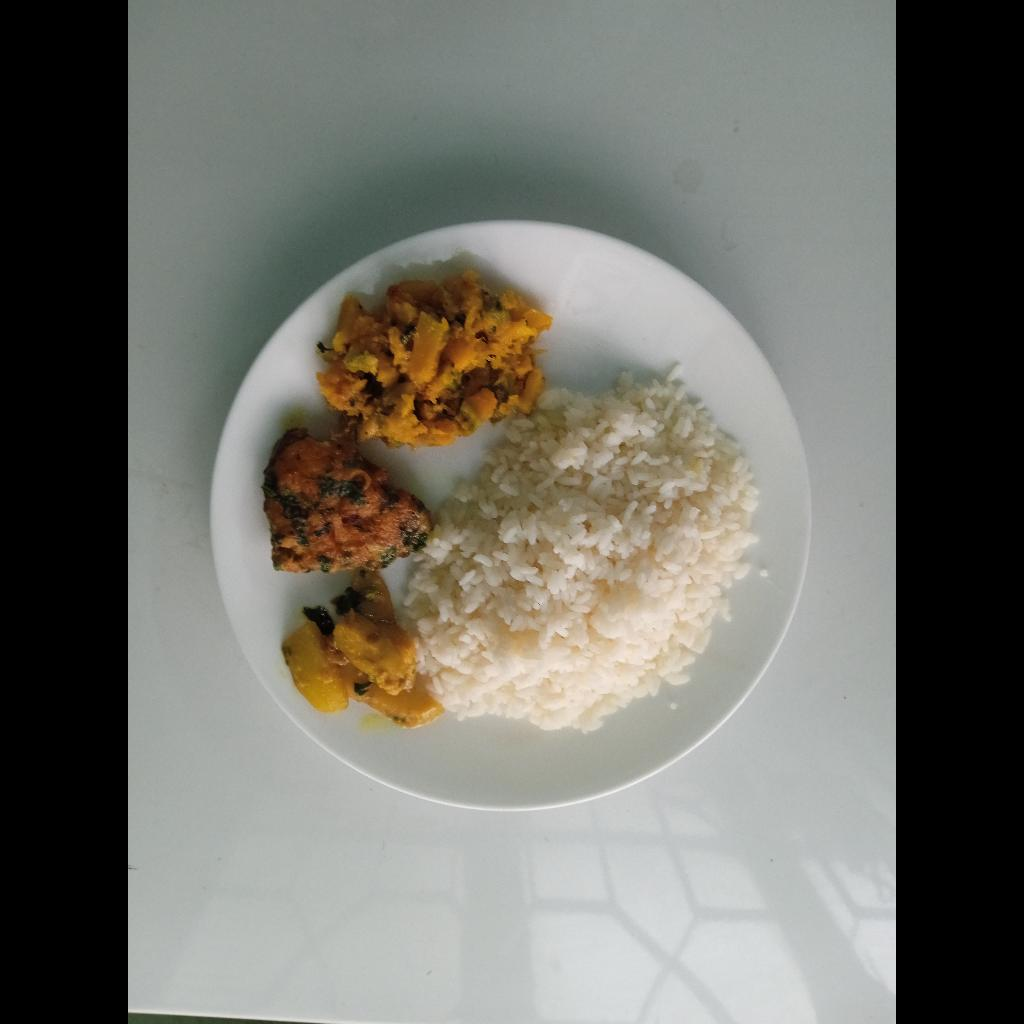fish: (274, 439, 433, 562)
kumra-vaji: (318, 278, 534, 434)
lau: (287, 591, 431, 724)
rice: (419, 379, 755, 734)
